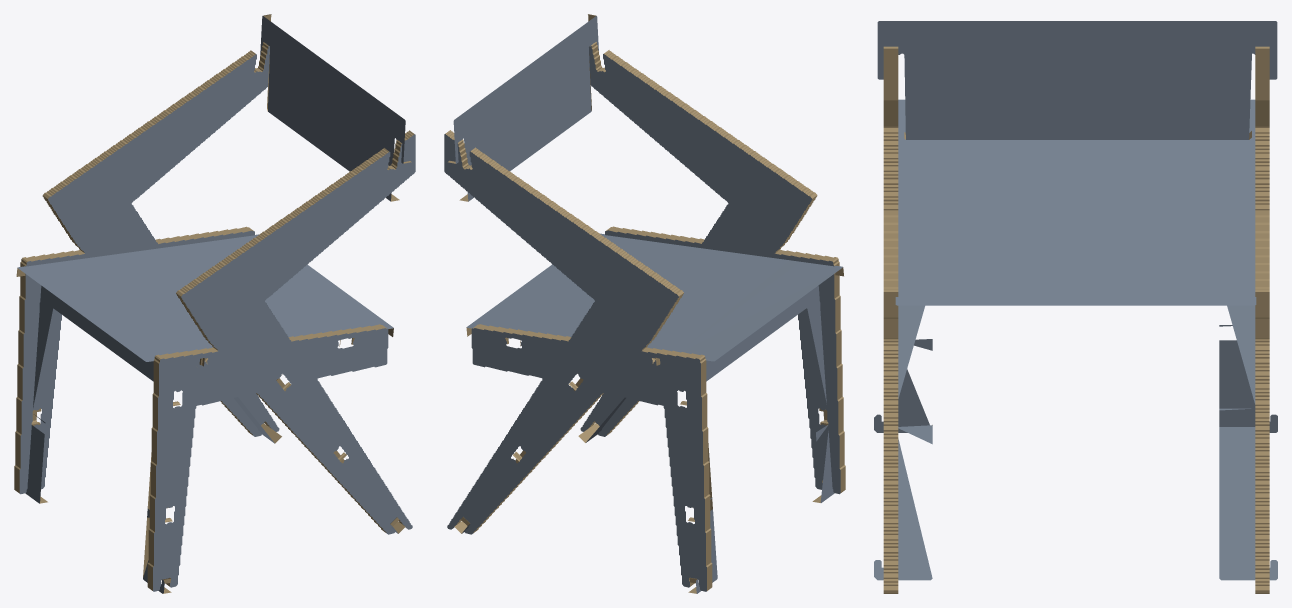
Rendered from NODO_SILLA_ESCULTORICA_CUARZO_MDF_V1.glb.
The picture shows the model from 3 angles, left to right: view 1: azimuth 30°, elevation 25°; view 2: azimuth 150°, elevation 25°; view 3: azimuth 270°, elevation 25°; orthographic projection. The views are drawn at different scales.
Visible parts, largest first — view 1: A_Lateral_Izq, B_Lateral_Der, E_Tapa_Asiento, F_Respaldo, C_Escuadra_Del, D_Escuadra_Tras; view 2: B_Lateral_Der, A_Lateral_Izq, E_Tapa_Asiento, F_Respaldo, C_Escuadra_Del, D_Escuadra_Tras; view 3: E_Tapa_Asiento, F_Respaldo, D_Escuadra_Tras, A_Lateral_Izq, B_Lateral_Der, C_Escuadra_Del.
Part boxes in pixels (x1,y1,x2,y2): A_Lateral_Izq: (147,130,415,591); B_Lateral_Der: (14,42,279,494); E_Tapa_Asiento: (16,234,393,366); F_Respaldo: (260,14,411,201); C_Escuadra_Del: (25,285,180,593); D_Escuadra_Tras: (204,358,405,533); B_Lateral_Der: (444,130,712,591); A_Lateral_Izq: (580,42,845,494); E_Tapa_Asiento: (466,233,843,365); F_Respaldo: (448,14,598,201); C_Escuadra_Del: (680,285,834,593); D_Escuadra_Tras: (454,358,655,533); E_Tapa_Asiento: (895,99,1256,305); F_Respaldo: (877,21,1277,139); D_Escuadra_Tras: (874,305,1277,580); A_Lateral_Izq: (883,46,898,593); B_Lateral_Der: (1255,46,1269,593); C_Escuadra_Del: (874,325,1277,432).
Size of the model in its own units: 0.53 by 0.79 by 0.5.
